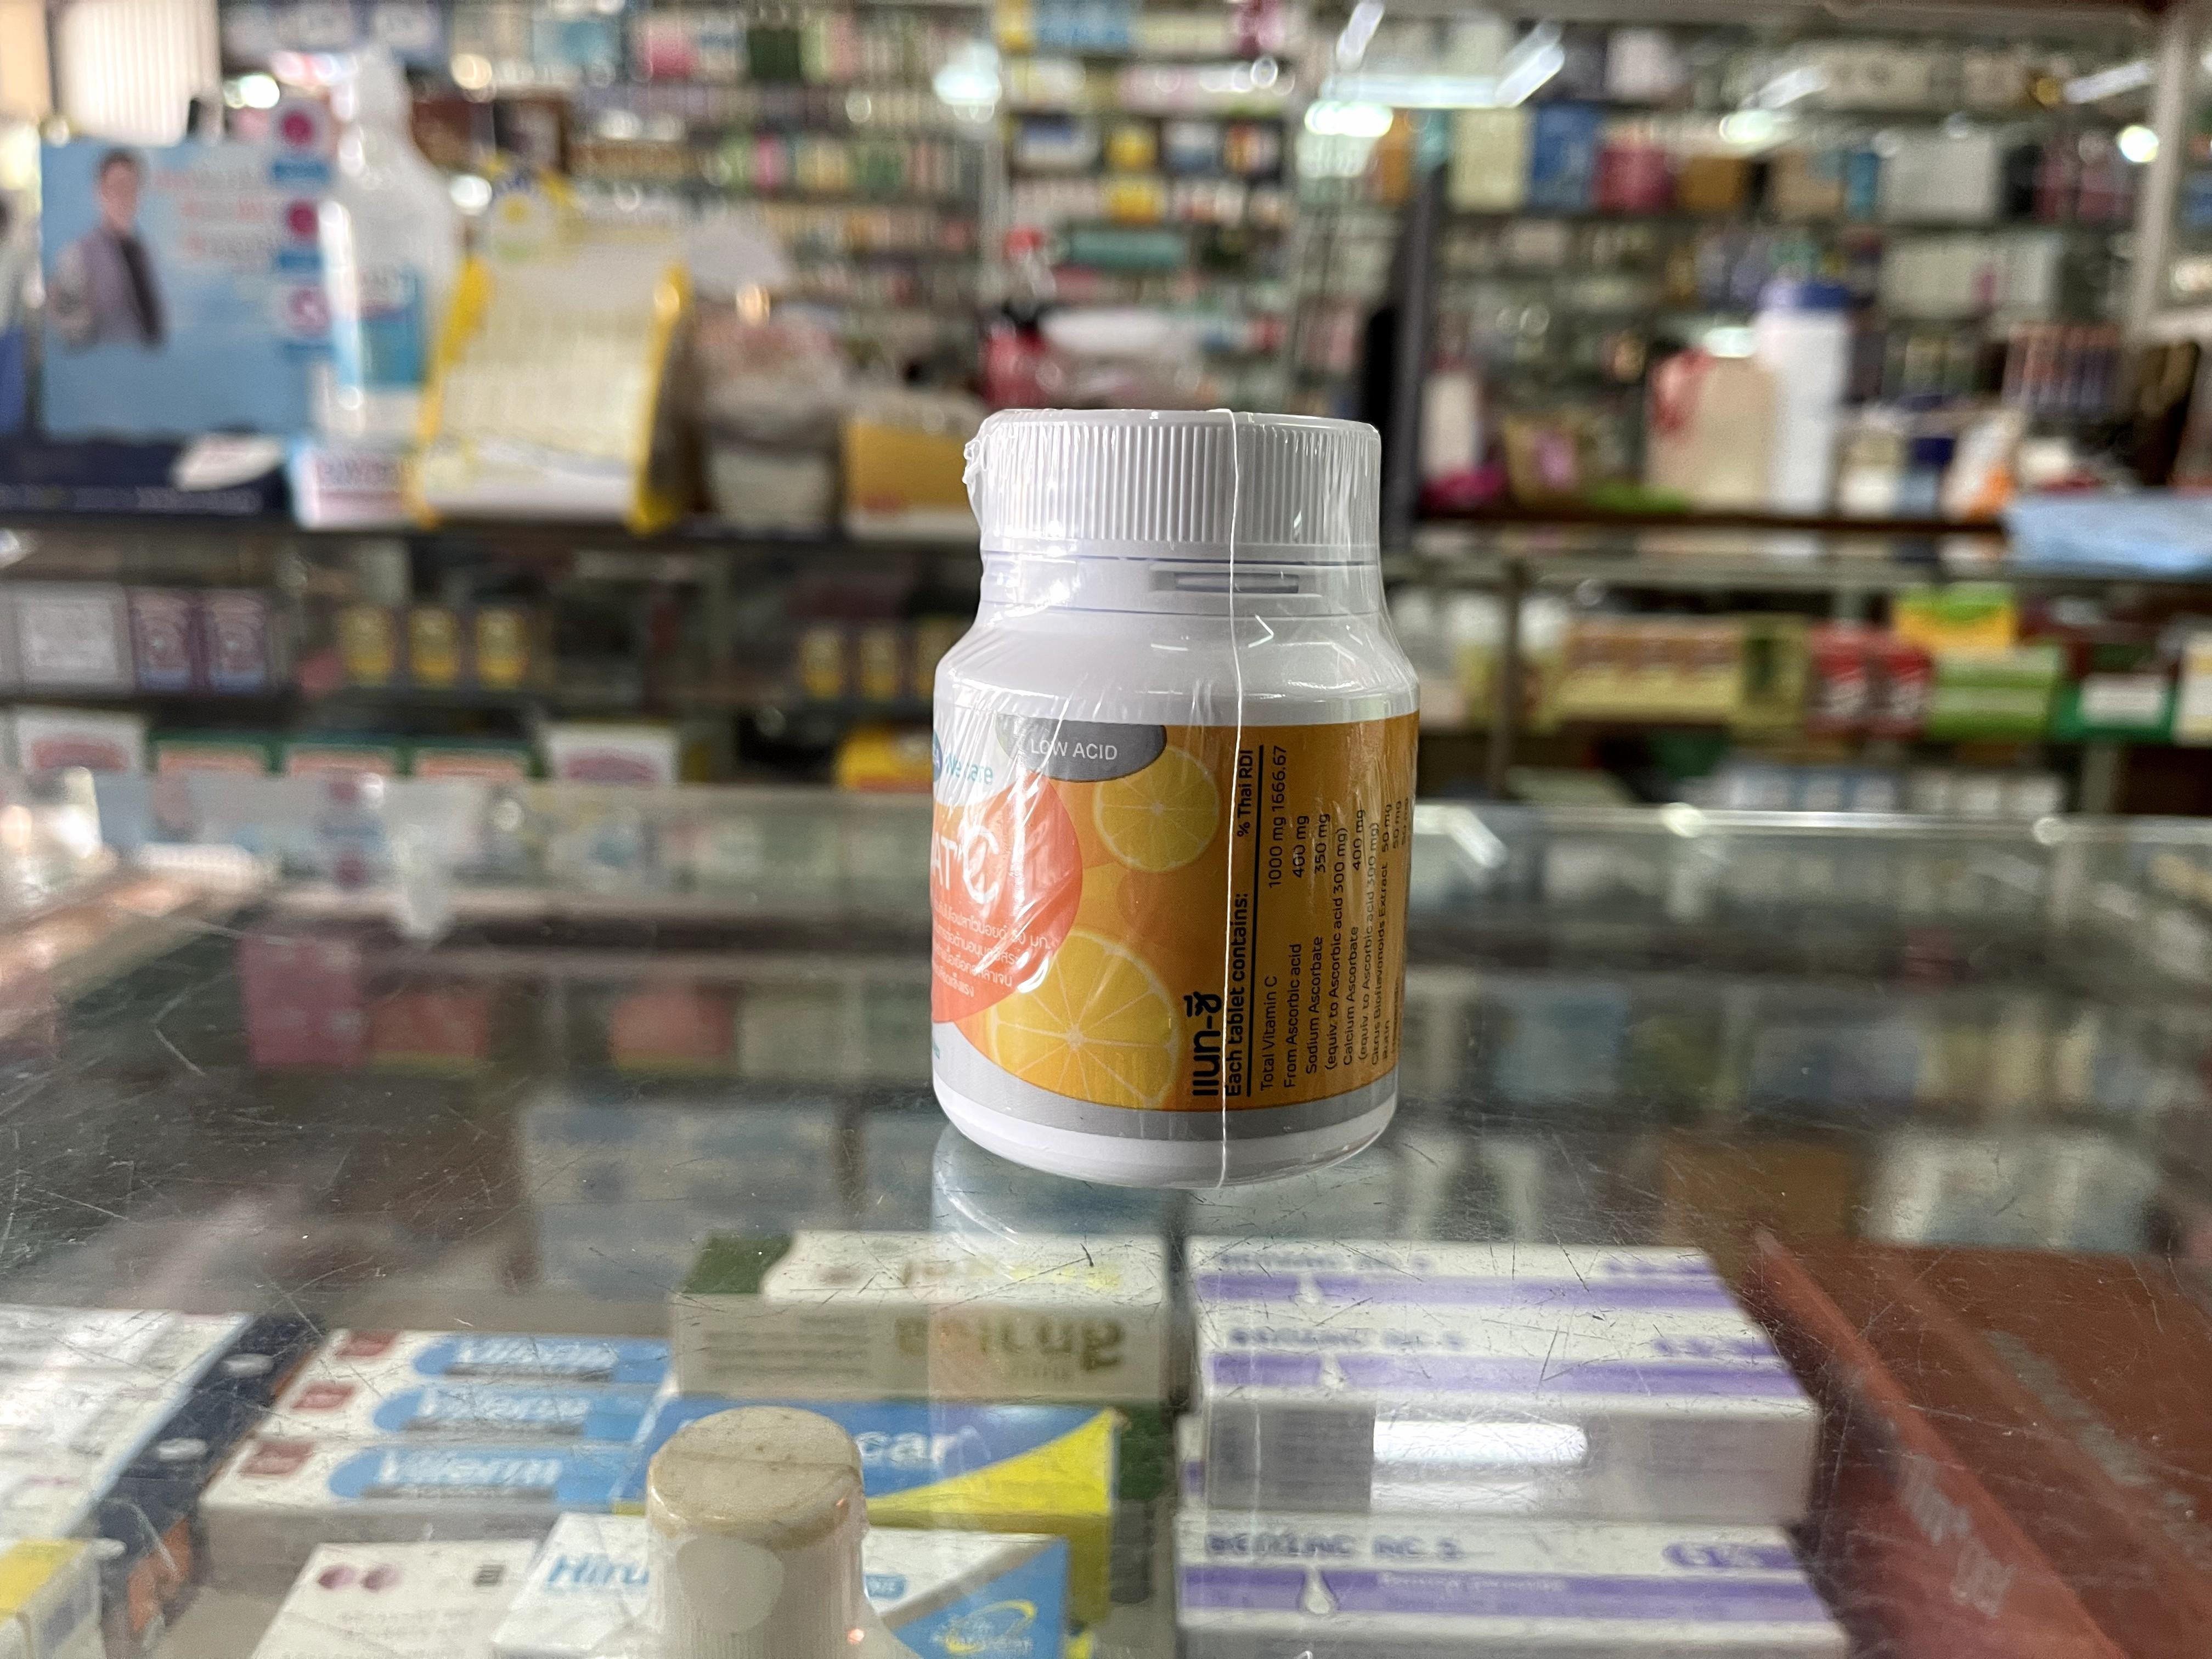NatC: (927, 401, 1421, 1195)
